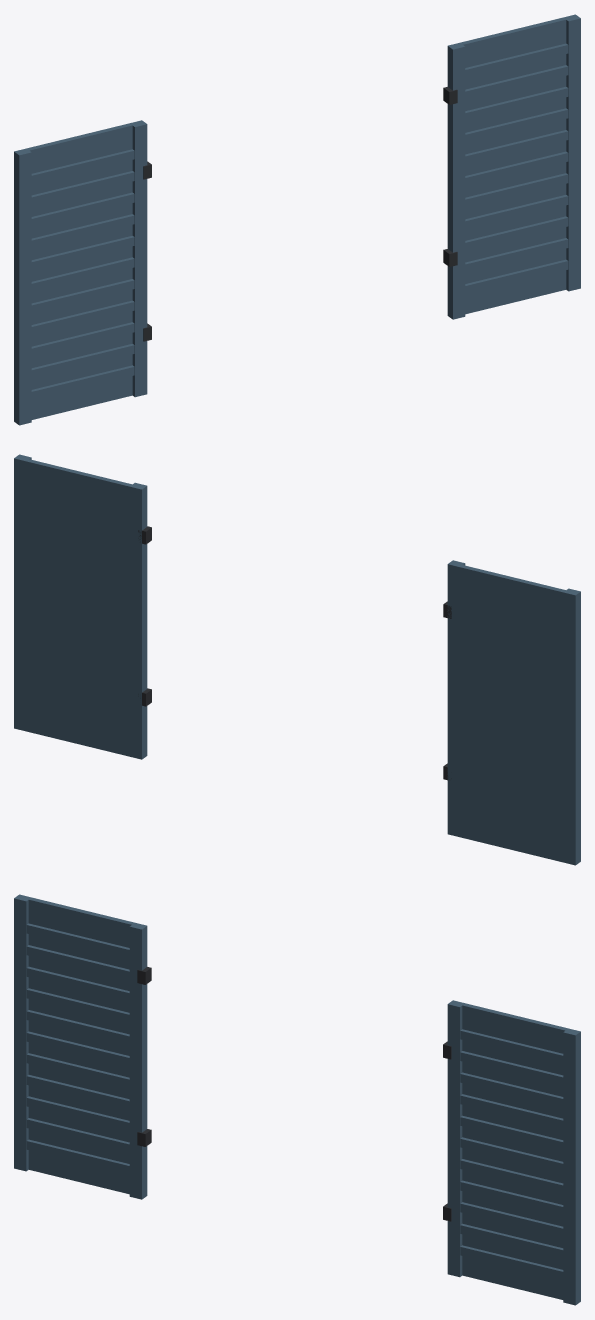
File: SM_Bld_Shutters_Blue_01.glb
3 renders of one model, top to bottom at view 1: azimuth 30°, elevation 25°; view 2: azimuth 150°, elevation 25°; view 3: azimuth 330°, elevation 25°, orthographic.
Visible parts, largest first — view 1: SM_Bld_Shutters_Blue_01; view 2: SM_Bld_Shutters_Blue_01; view 3: SM_Bld_Shutters_Blue_01.
Part boxes in pixels (<box>): SM_Bld_Shutters_Blue_01: <box>14,14,580,425</box>; SM_Bld_Shutters_Blue_01: <box>14,454,580,865</box>; SM_Bld_Shutters_Blue_01: <box>14,894,580,1305</box>.
Size of the model in its own units: 2.72 by 1.25 by 0.05.
1 material, 1 textured.
